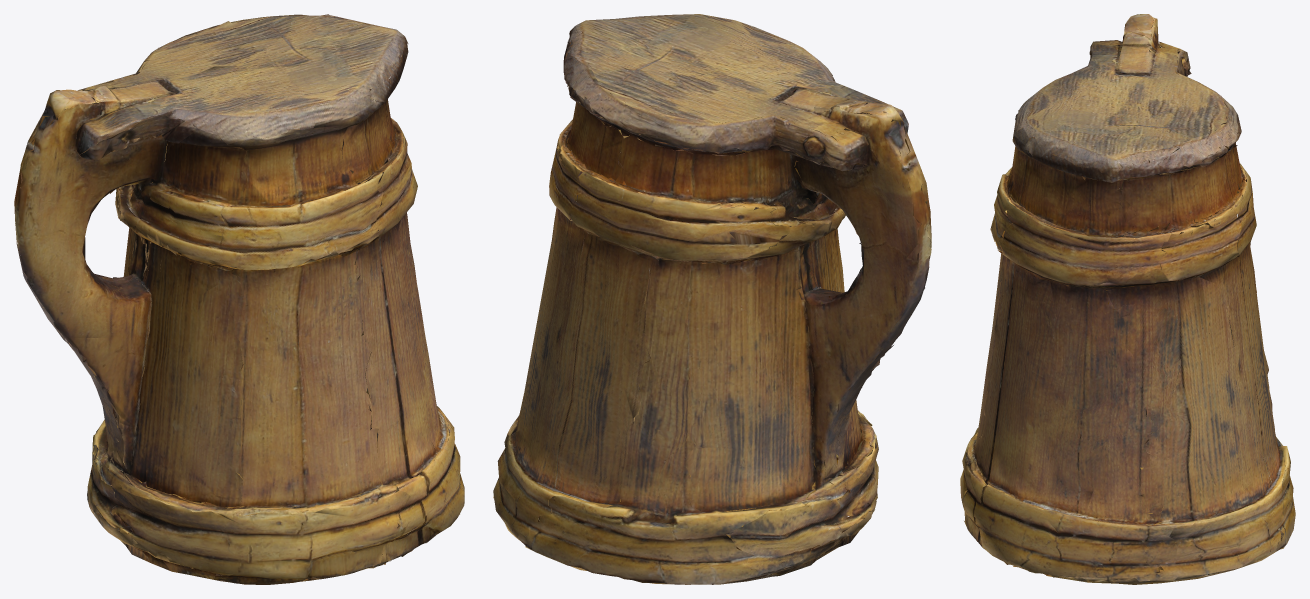
The model's file is tankard_maryrose.glb.
3 renders of one model, left to right at view 1: azimuth 30°, elevation 25°; view 2: azimuth 150°, elevation 25°; view 3: azimuth 270°, elevation 25°, orthographic. The views are drawn at different scales.
Parts seen in each view (by area): view 1: Object_2; view 2: Object_2; view 3: Object_2.
Part boxes in pixels (x1,y1,x2,y2): Object_2: (14, 14, 464, 584); Object_2: (493, 14, 931, 584); Object_2: (960, 14, 1295, 584).
Bounding box in the file's own units: 2.43 × 2.58 × 1.87.
Materials: 1 (1 with a texture image).
